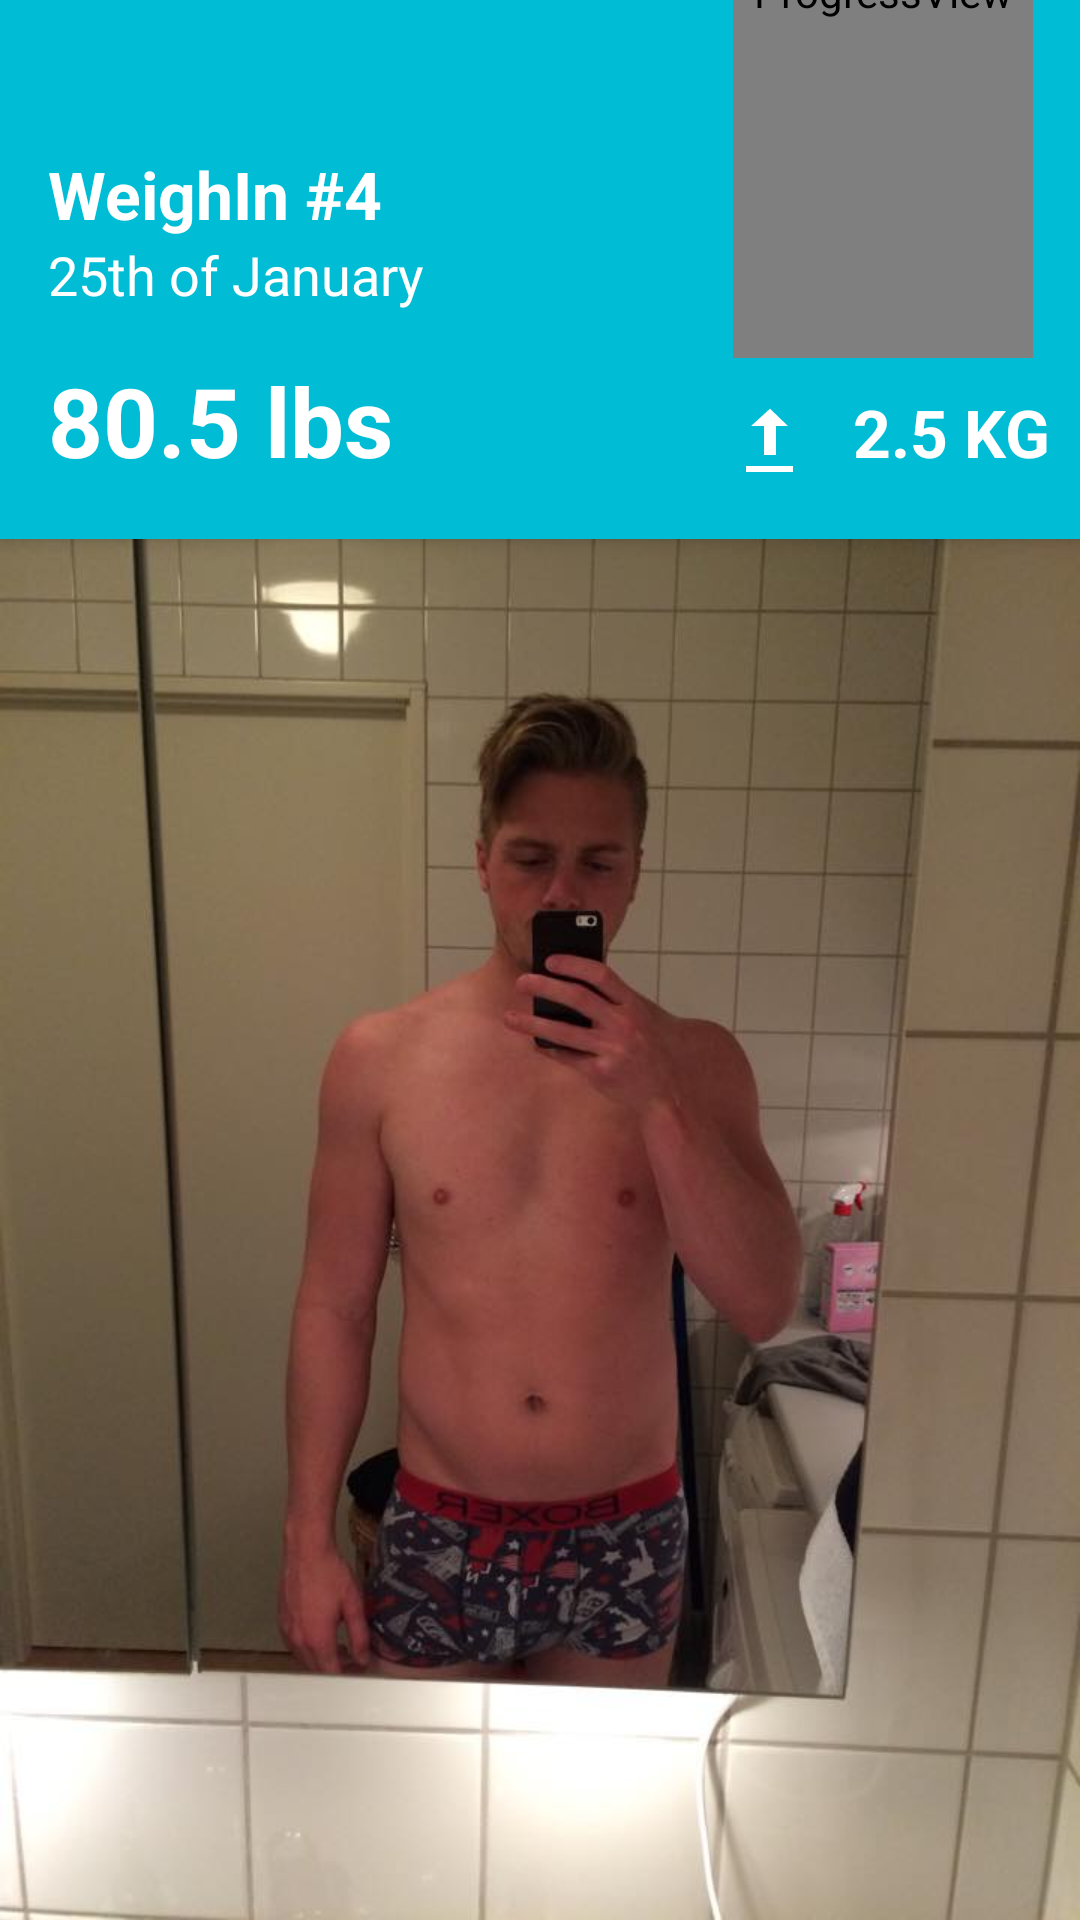

Icons on this 1080px×1920px Android screen, each with its box as (x1=x1, y1=y1, x2=x2, y2=y2):
upload: (x1=746, y1=409, x2=793, y2=472)
